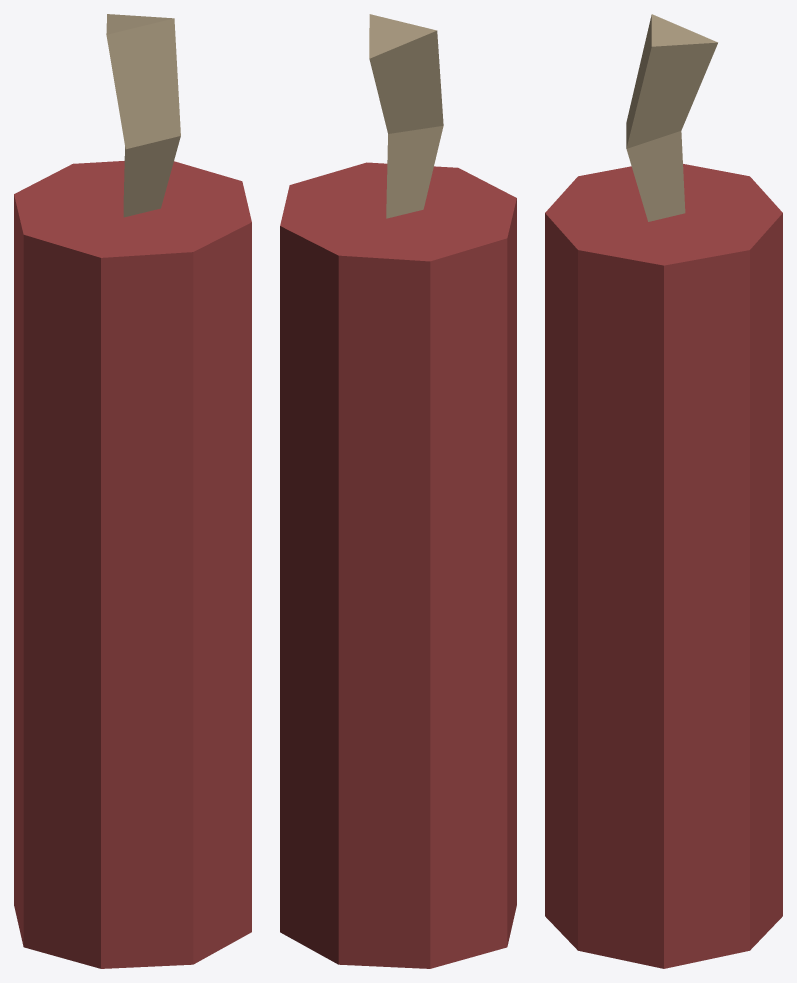
Rendered from Dynamite.fbx.
3 views of the same model, side by side, from view 1: azimuth 30°, elevation 25°; view 2: azimuth 150°, elevation 25°; view 3: azimuth 270°, elevation 25° (orthographic).
Visible parts, largest first — view 1: Dynamite; view 2: Dynamite; view 3: Dynamite.
Part boxes in pixels (bbox=[...]): Dynamite: bbox=[14, 14, 251, 968]; Dynamite: bbox=[280, 14, 516, 968]; Dynamite: bbox=[545, 14, 782, 968].
Bounding box in the file's own units: 15.73 × 61.69 × 15.01.
